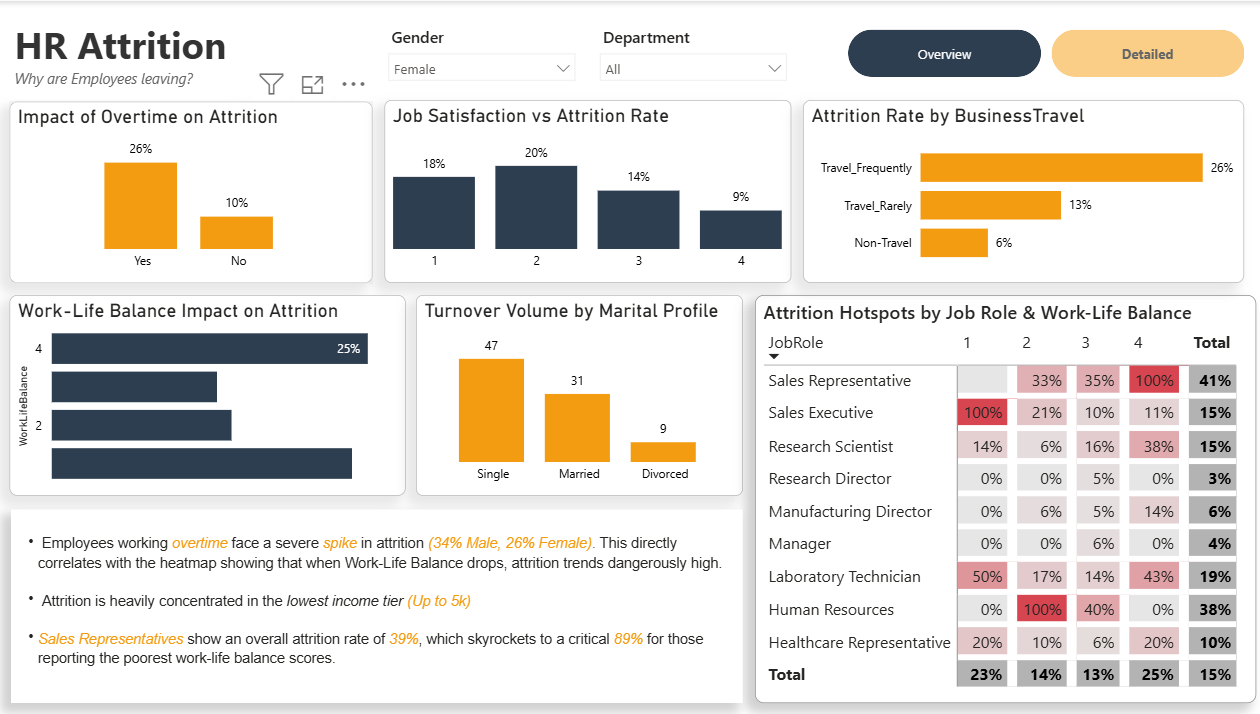

Layout of this report page (visuals, bound fields, positions):
{"tool":"powerbi","page":{"name":"Page 2","canvas":[1280,720],"ordinal":1},"visuals":[{"type":"pageNavigator","box":[927.4,14.1,330.1,50.3],"z":0},{"type":"textbox","box":[11,14.1,730.9,62.9],"z":1000},{"type":"clusteredColumnChart","title":"Impact of Overtime on Attrition","fields":{"Category":["HR_Analytics.OverTime"],"Y":["HR_Analytics.Attrition Rate"],"Series":["HR_Analytics.Gender"]},"box":[11,100.6,358.4,194.9],"z":2000},{"type":"clusteredColumnChart","title":"Job Satisfaction vs Attrition Rate","fields":{"Category":["HR_Analytics.JobSatisfaction"],"Y":["HR_Analytics.Attrition Rate"],"Series":["HR_Analytics.Gender"]},"box":[389.8,100.6,410.3,194.9],"z":3000},{"type":"barChart","title":"Work-Life Balance Impact on Attrition","fields":{"Y":["HR_Analytics.Attrition Rate"],"Category":["HR_Analytics.WorkLifeBalance"],"Series":["HR_Analytics.Gender"]},"box":[11,308.1,399.2,185.5],"z":4000},{"type":"barChart","fields":{"Y":["HR_Analytics.Attrition Rate"],"Series":["HR_Analytics.Gender"],"Category":["HR_Analytics.SalarySlab"]},"box":[811.1,100.6,446.4,194.9],"z":5000},{"type":"clusteredColumnChart","title":"Turnover Volume by Marital Profile","fields":{"Category":["HR_Analytics.MaritalStatus"],"Y":["Sum(HR_Analytics.AttritionCount)"],"Series":["HR_Analytics.Gender"]},"box":[421.3,308.1,345.8,185.5],"z":6000},{"type":"pivotTable","title":"Attrition Hotspots by Job Role & Work-Life Balance","fields":{"Rows":["HR_Analytics.JobRole"],"Columns":["HR_Analytics.WorkLifeBalance"],"Values":["HR_Analytics.Attrition Rate"]},"box":[779.6,308.1,499.8,388.2],"z":7000},{"type":"textbox","box":[11.7,513.3,755,183.3],"z":9000}]}

Visuals, with their boxes in screenshot pixels (x1, y1, x2, y2), scaled from the page's 1280x720 canvas onto the 1260x714 screenshot:
pageNavigator: crop(913, 14, 1238, 64)
textbox: crop(11, 14, 730, 76)
"Impact of Overtime on Attrition" clusteredColumnChart: crop(11, 100, 364, 293)
"Job Satisfaction vs Attrition Rate" clusteredColumnChart: crop(384, 100, 788, 293)
"Work-Life Balance Impact on Attrition" barChart: crop(11, 306, 404, 489)
barChart - HR_Analytics.Attrition Rate x HR_Analytics.Gender: crop(798, 100, 1238, 293)
"Turnover Volume by Marital Profile" clusteredColumnChart: crop(415, 306, 755, 489)
"Attrition Hotspots by Job Role & Work-Life Balance" pivotTable: crop(767, 306, 1259, 690)
textbox: crop(12, 509, 755, 691)
